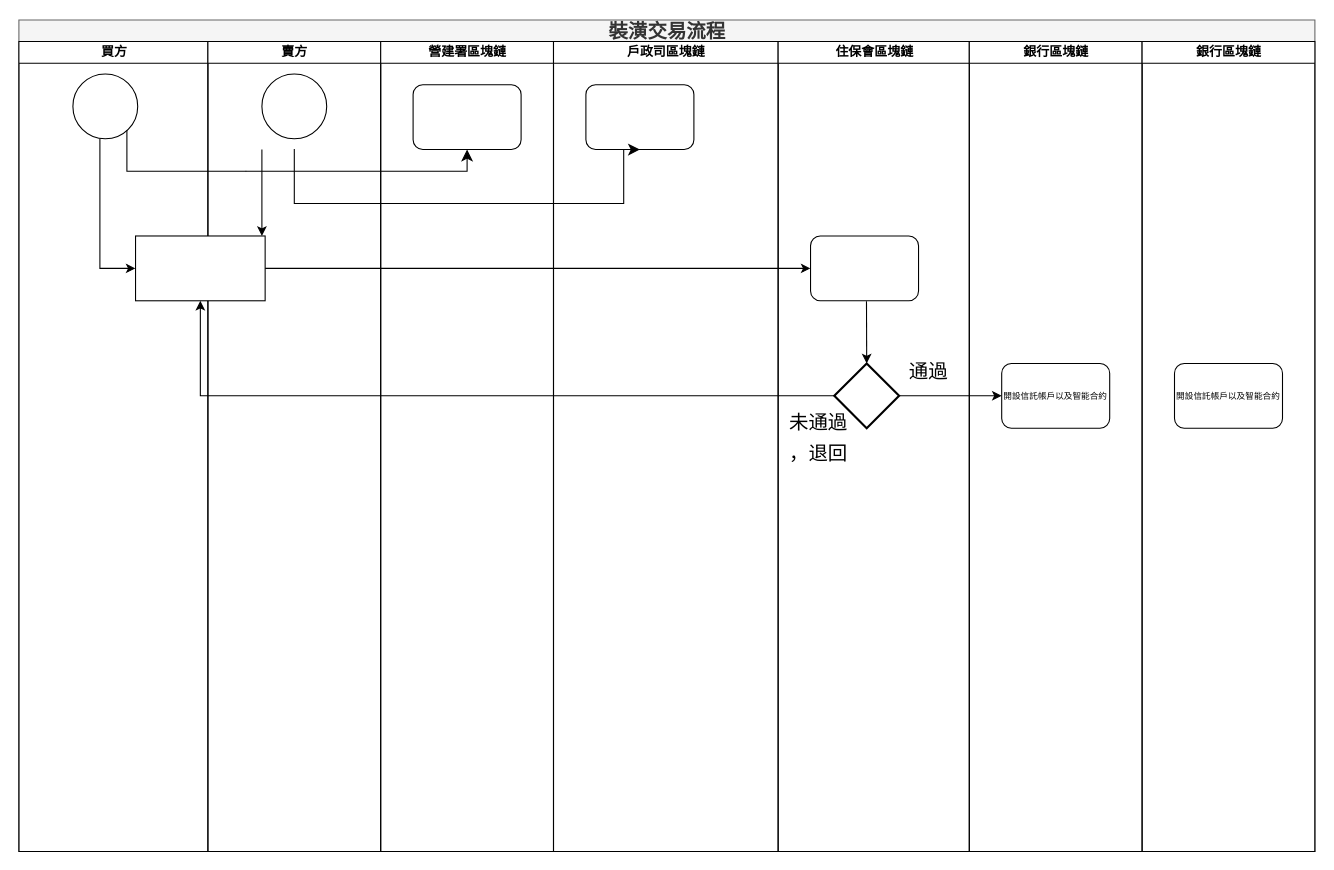
This 1334x870 diagram has some shape labels left out. The centre of each missing label's shape, as x and y in pixels:
"審核內容" belongs at point (864, 268).
"是否 通過" belongs at point (866, 395).
"查看買家身分" belongs at point (639, 117).
"查詢賣家公司基本資料" belongs at point (466, 117).
"雙方準備存摺、合約書、估價單等相關文件" belongs at point (199, 268).
